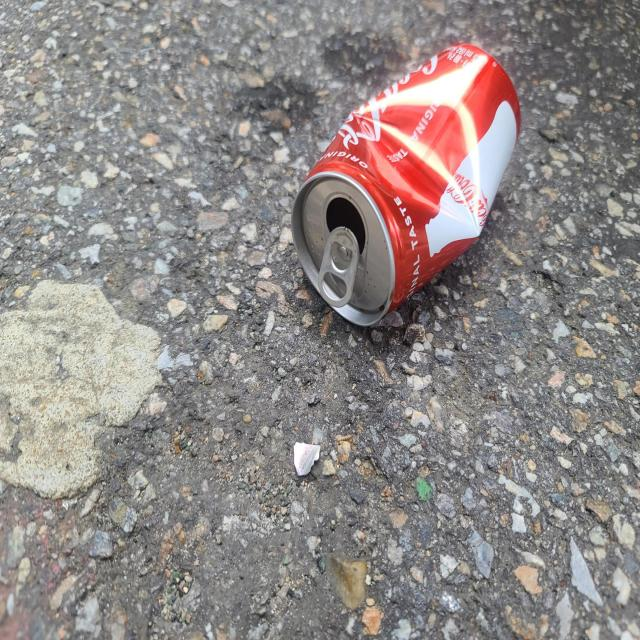can: (292, 42, 521, 326)
